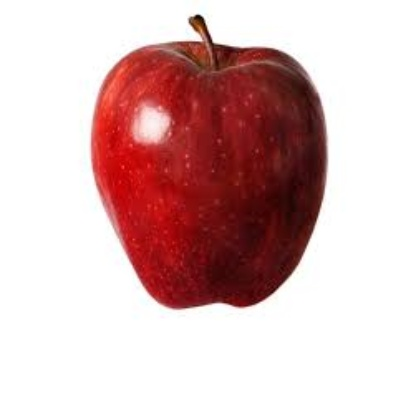tao: (91, 24, 320, 314)
